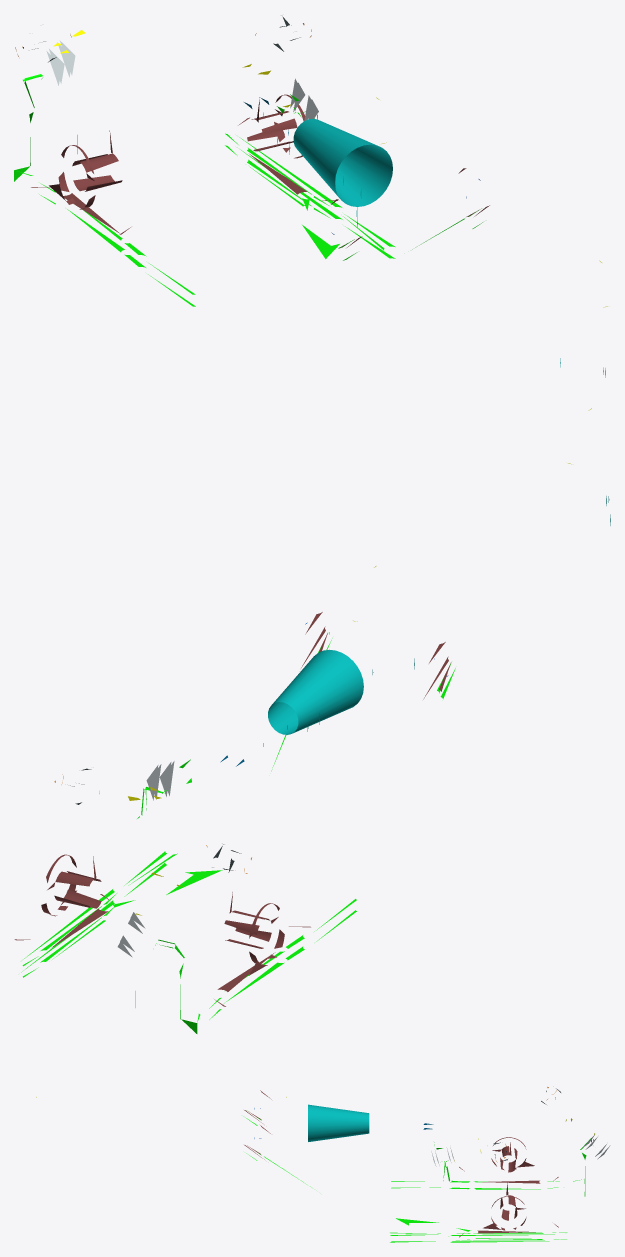
3 renders of one model, top to bottom at view 1: azimuth 30°, elevation 25°; view 2: azimuth 150°, elevation 25°; view 3: azimuth 270°, elevation 25°, orthographic. The views are drawn at different scales.
Visible parts, largest first — view 1: F19721000063199800000_001_fussplatte_kpl (×4); view 2: F19721000063199800000_001_fussplatte_kpl (×4); view 3: F19721000063199800000_001_fussplatte_kpl (×3).
Part boxes in pixels (x1,y1,x2,y2): F19721000063199800000_001_fussplatte_kpl (×4): (14,40,605,377); F19721000063199800000_001_fussplatte_kpl (×4): (14,496,610,1033); F19721000063199800000_001_fussplatte_kpl (×3): (243,1090,593,1242).
Size of the model in its own units: 258 by 984 by 267.
